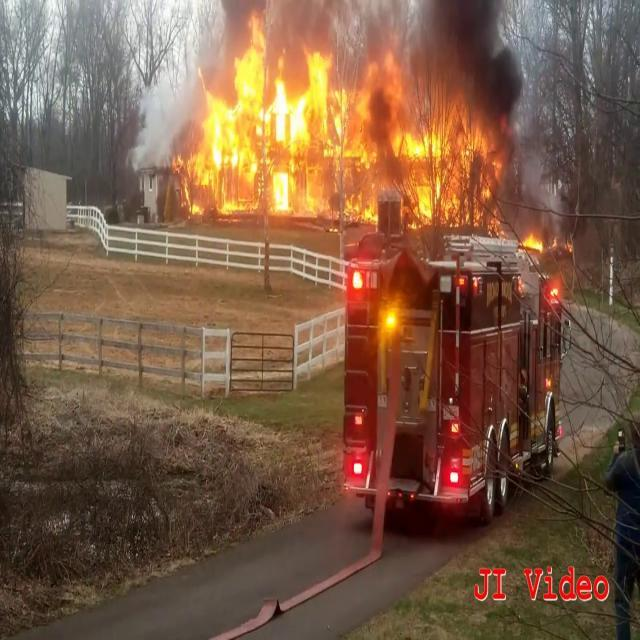Fire: (178, 22, 506, 246), (522, 226, 544, 256)
Smoke: (410, 0, 537, 124), (126, 44, 215, 184)
